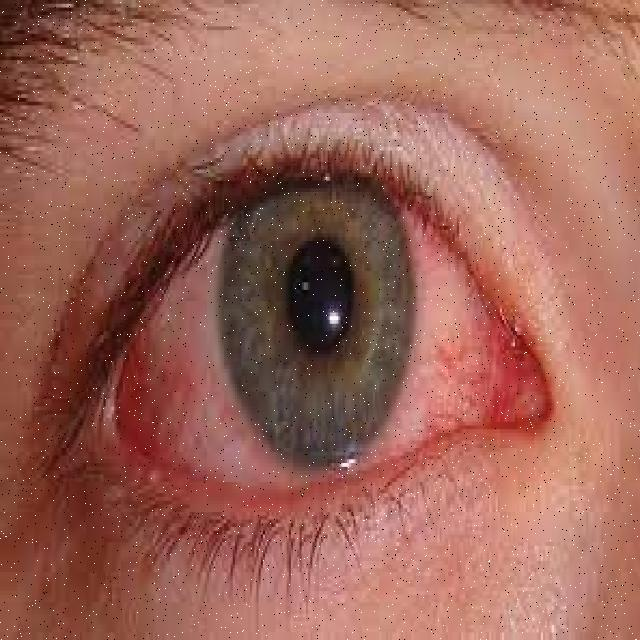Conjunctivitis: (61, 200, 556, 501)
